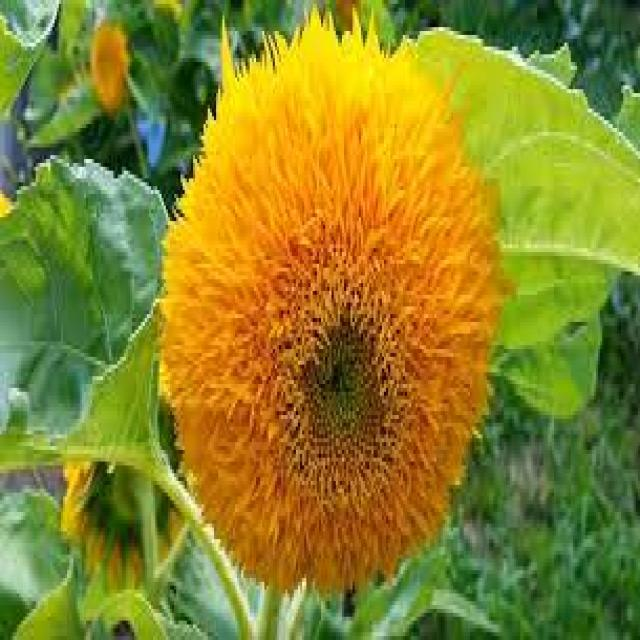sunflower: (153, 0, 527, 612), (55, 360, 213, 605), (78, 0, 132, 120)
